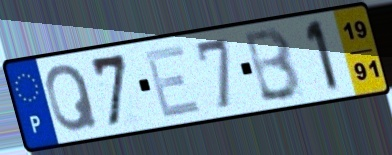1: (303, 17, 343, 95)
7: (89, 51, 131, 130), (192, 38, 235, 111)
B: (243, 24, 304, 104)
E: (142, 42, 205, 121)
Q: (43, 62, 101, 135)
